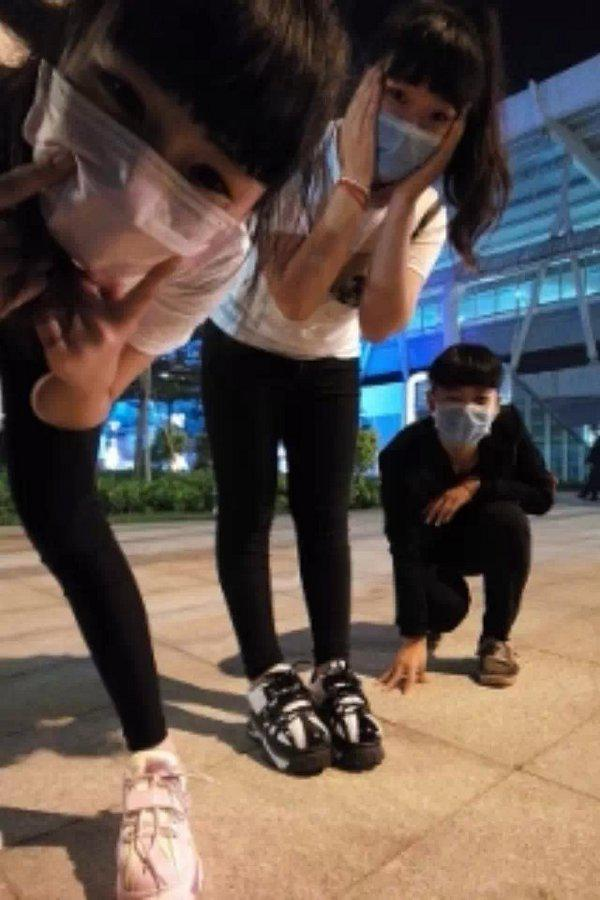OK: (28, 28, 277, 277), (357, 63, 463, 187), (434, 384, 498, 448)
